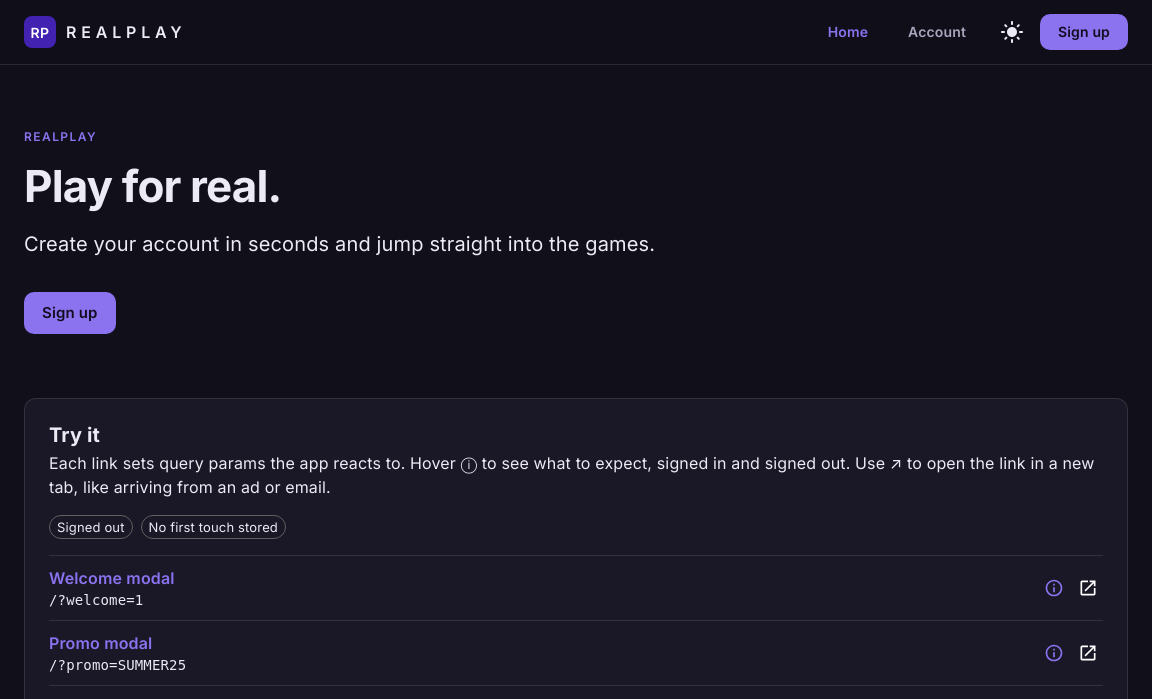
theme mode › toggles and remembers the choice
Click the button named "Switch to light mode": (1012, 32) [992,12,1032,52]
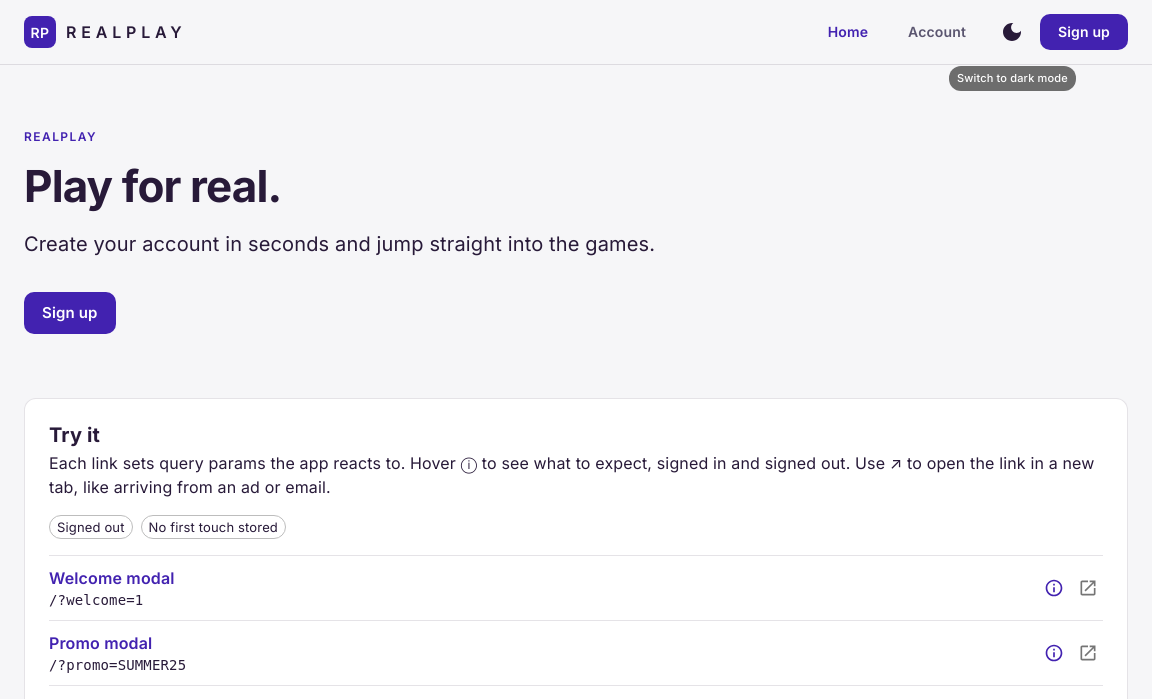
Check: the button named "Switch to dark mode" is shown, box [992,12,1032,52]
